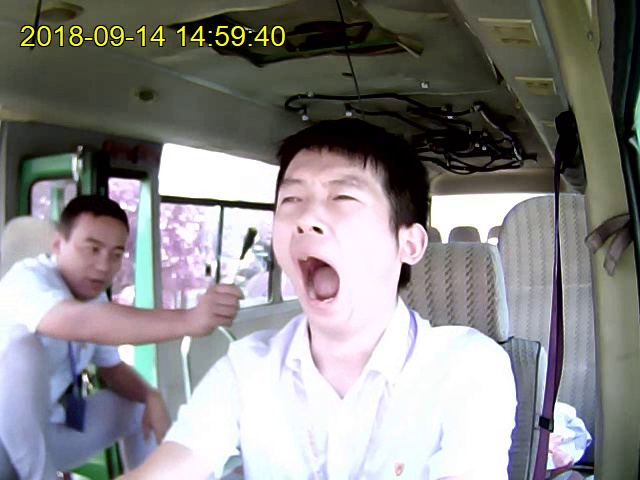open_mouth: (291, 248, 344, 317)
